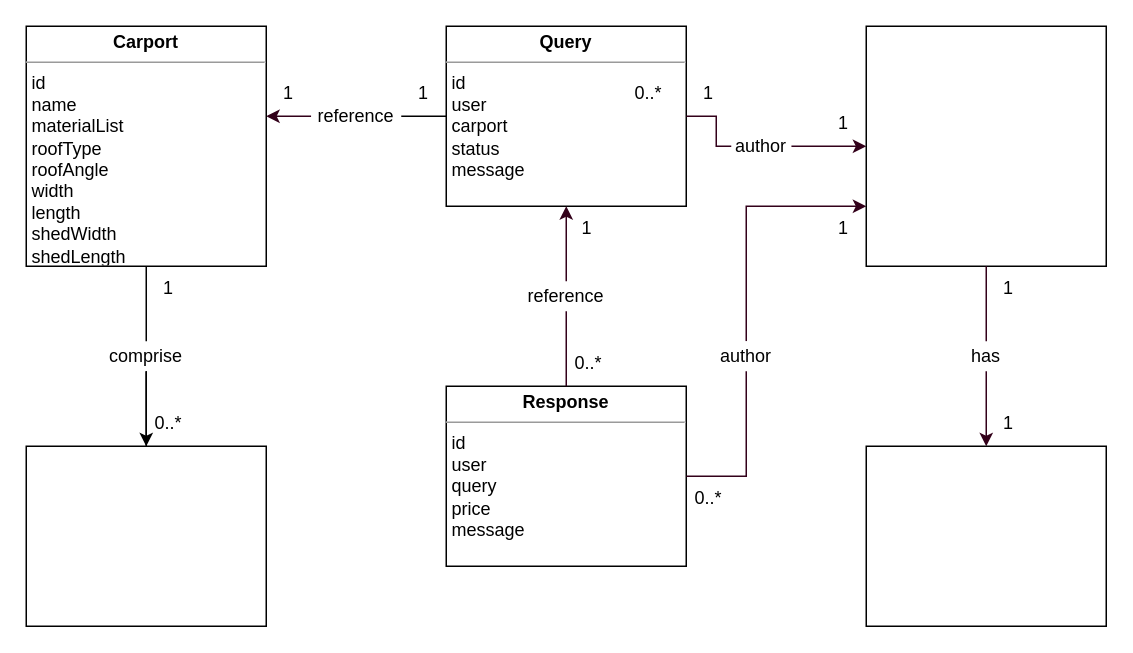
The diagram is 1133 pixels wide and 653 high, and some of its shapes have lost their labels. Here are the shapes that lost their labels. From the top down, the centre of each, then its label:
pixel 985 145: User id email password role name phone address
pixel 145 535: Material name amount price color
pixel 985 535: Address id address town postalCode
